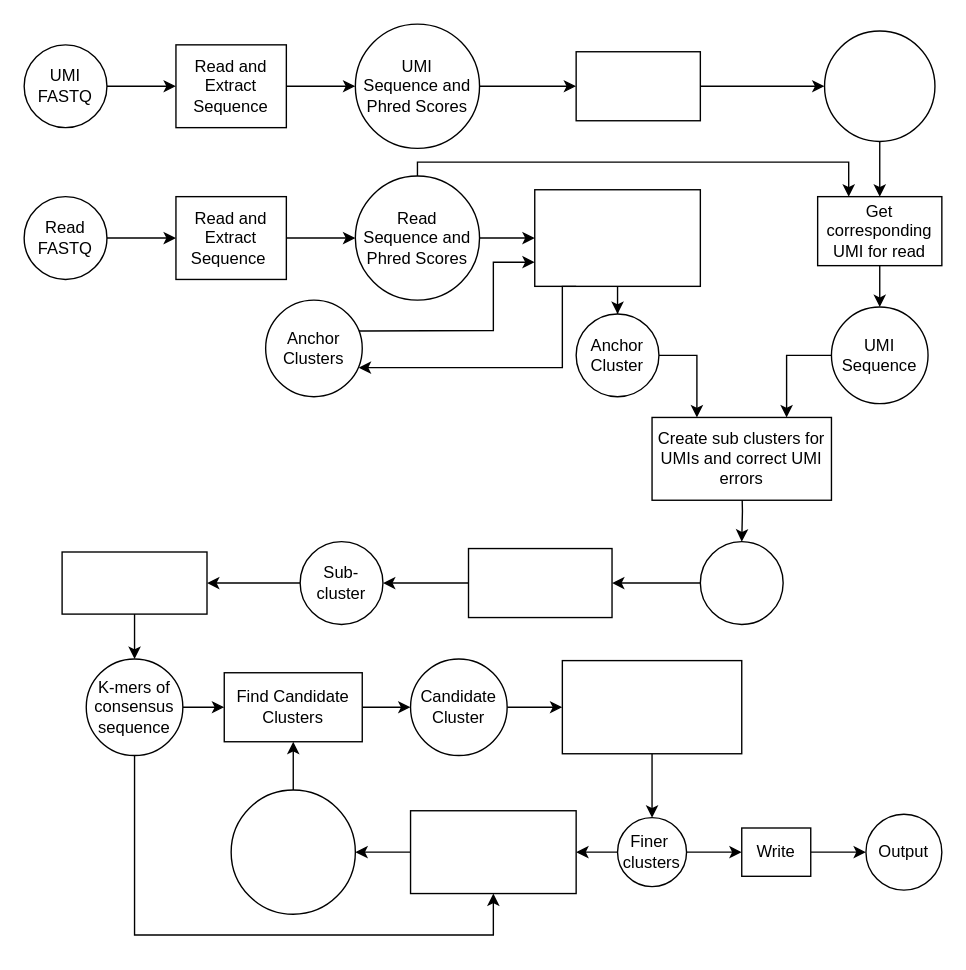
Some shapes in this 966 by 970 pixel diagram are drawn without their labels. Here are the shapes that lost their labels. From the top down, the box of each, then its label:
(575, 50, 700, 121): Cluster by Unique UMIs
(823, 30, 935, 141): Cluster of unique umis
(533, 188, 700, 286): Last 50bp as anchor to group sequences together or create new Cluster
(61, 551, 207, 614): Create positional k-mers
(467, 547, 612, 618): Iterate over each subcluster
(699, 540, 783, 624): Sub- clusters
(561, 659, 742, 754): Check Hamming Distance and determine best cluster or new cluster
(230, 789, 355, 914): Positional k-mer buckets containing clusters
(409, 809, 576, 894): Add Cluster to buckets for k-mers of observed subcluster
